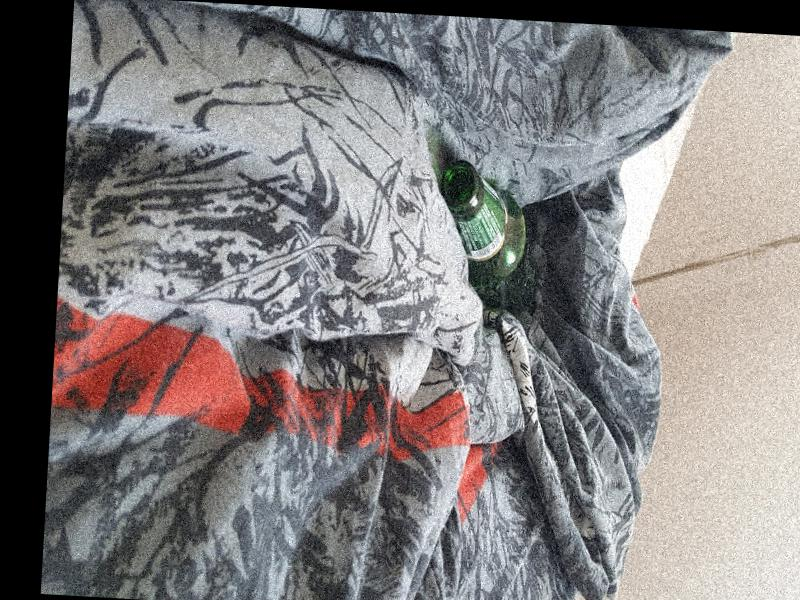Beer: (432, 158, 542, 318)
